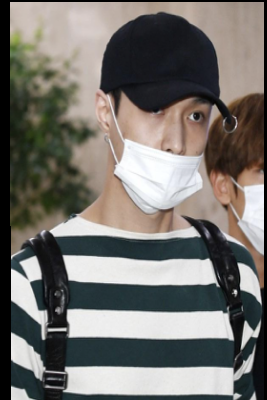mask_weared_incorrect: (83, 6, 241, 236)
